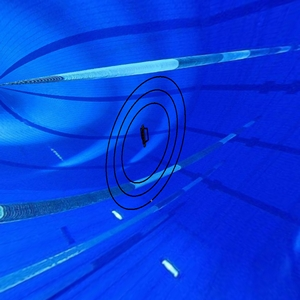circle: (103, 72, 193, 218)
submarine: (134, 124, 157, 154)
